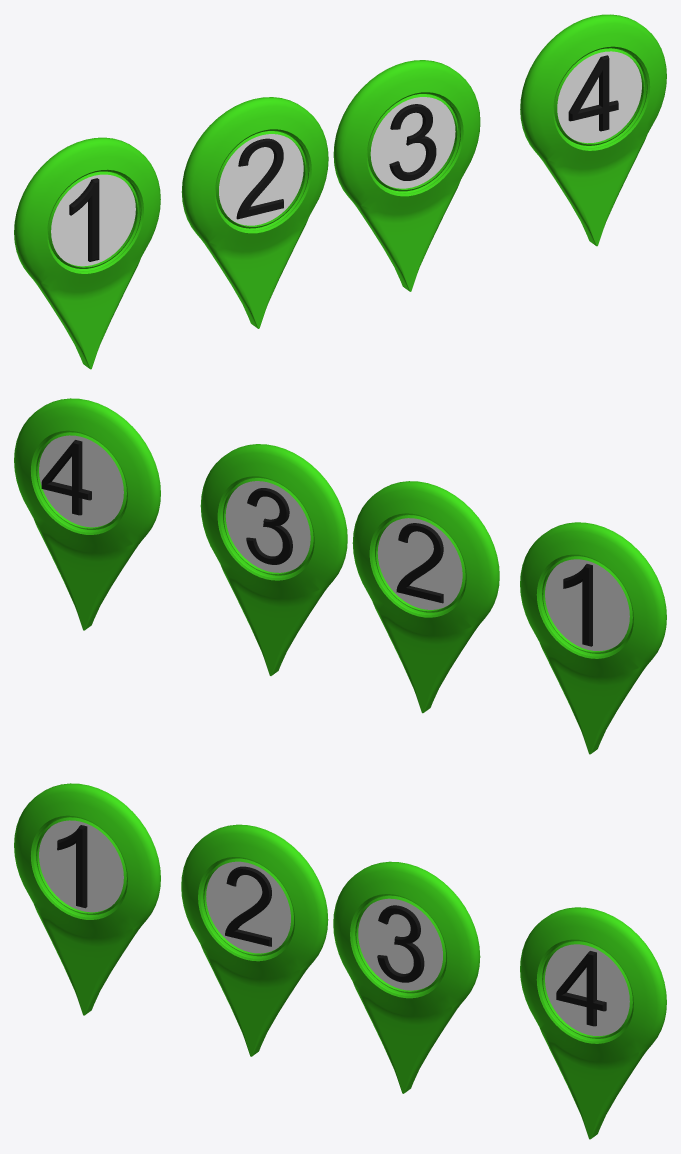
File: point.FBX
3 renders of one model, top to bottom at view 1: azimuth 30°, elevation 25°; view 2: azimuth 150°, elevation 25°; view 3: azimuth 330°, elevation 25°, orthographic.
Visible parts, largest first — view 1: Tube005, Tube001, Tube004, Tube003; view 2: Tube005, Tube003, Tube004, Tube001; view 3: Tube001, Tube003, Tube005, Tube004.
Boxes of the visible parts, <box> form: Tube005: <box>520,14,666,246</box>; Tube001: <box>14,137,160,369</box>; Tube004: <box>333,60,480,291</box>; Tube003: <box>181,97,328,328</box>; Tube005: <box>14,398,160,630</box>; Tube003: <box>352,481,499,713</box>; Tube004: <box>200,444,347,675</box>; Tube001: <box>520,522,666,754</box>; Tube001: <box>14,783,160,1015</box>; Tube003: <box>181,824,328,1056</box>; Tube005: <box>520,907,666,1139</box>; Tube004: <box>333,861,480,1093</box>.
Bounding box in the file's own units: 686 × 228 × 30.41.
